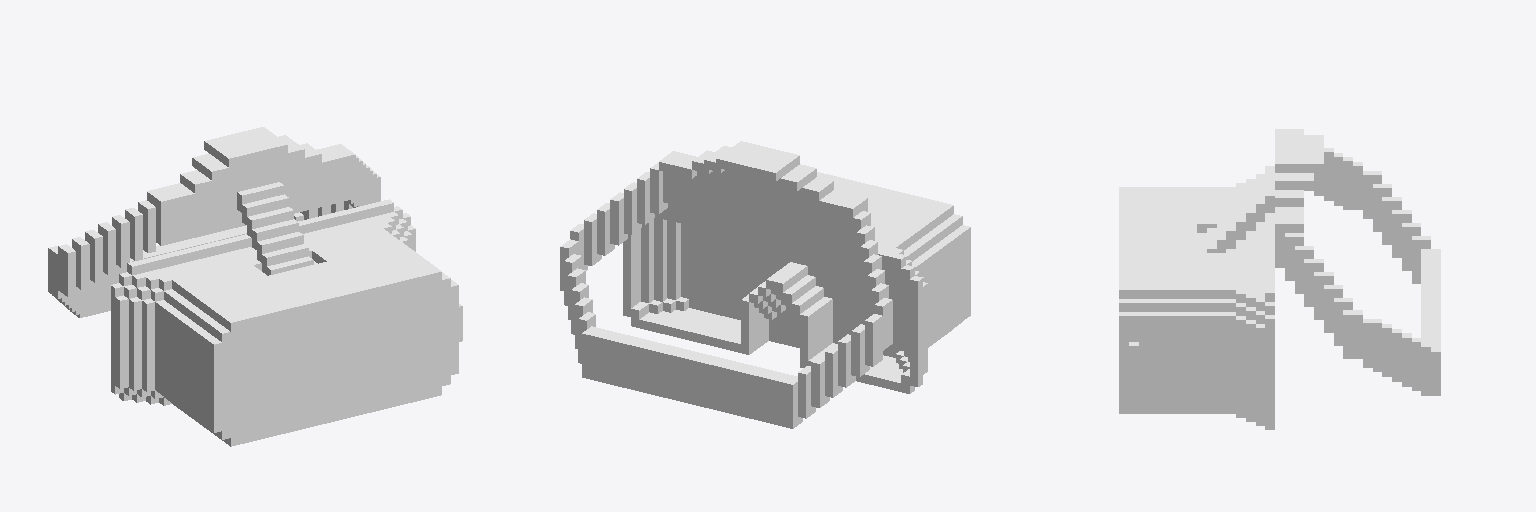
Rendered from mirage_solo-0.obj.
3 renders of one model, left to right at view 1: azimuth 30°, elevation 25°; view 2: azimuth 150°, elevation 25°; view 3: azimuth 270°, elevation 25°, orthographic.
Parts seen in each view (by area): view 1: mirage_solo-0; view 2: mirage_solo-0; view 3: mirage_solo-0.
Part boxes in pixels (x1,y1,x2,y2): mirage_solo-0: (48, 127, 462, 446); mirage_solo-0: (560, 141, 970, 428); mirage_solo-0: (1119, 129, 1440, 429).
Size of the model in its own units: 37 by 24 by 33.